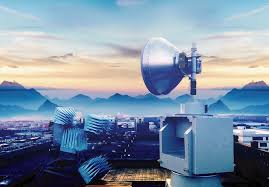ba: (134, 30, 203, 101)
